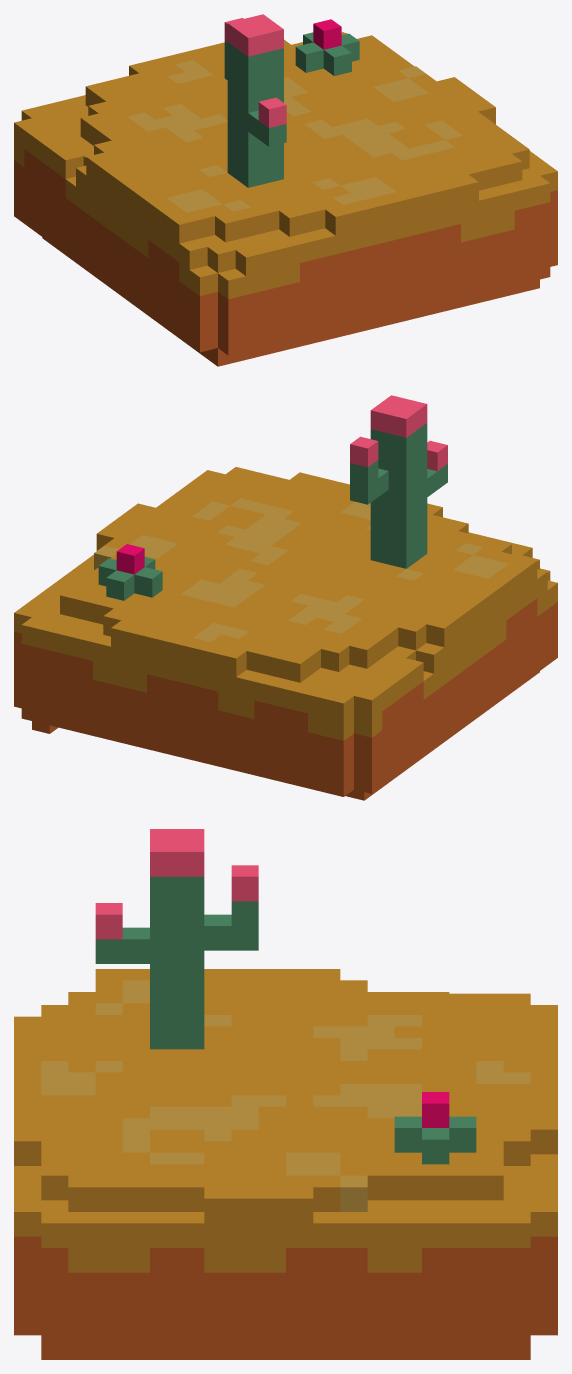
Rendered from sand.glb.
3 views of the same model, one above another, from view 1: azimuth 30°, elevation 25°; view 2: azimuth 150°, elevation 25°; view 3: azimuth 270°, elevation 25° (orthographic). The views are drawn at different scales.
Parts seen in each view (by area): view 1: sand.vox; view 2: sand.vox; view 3: sand.vox.
Part boxes in pixels (x1,y1,x2,y2): sand.vox: (14,14,557,366); sand.vox: (14,395,557,800); sand.vox: (14,829,557,1359).
Size of the model in its own units: 2 by 1.5 by 2.
1 material, 1 textured.
